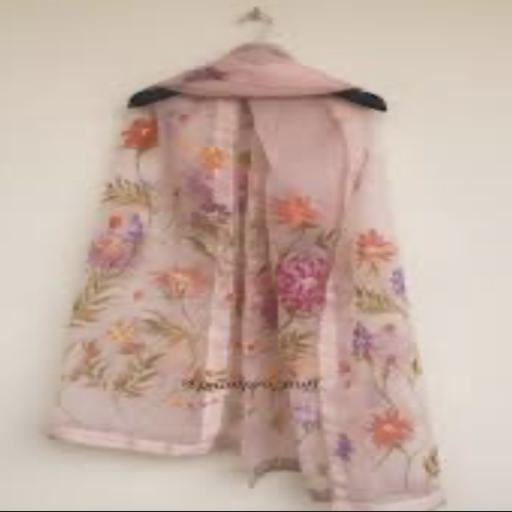Dupatta: (65, 41, 452, 511)
